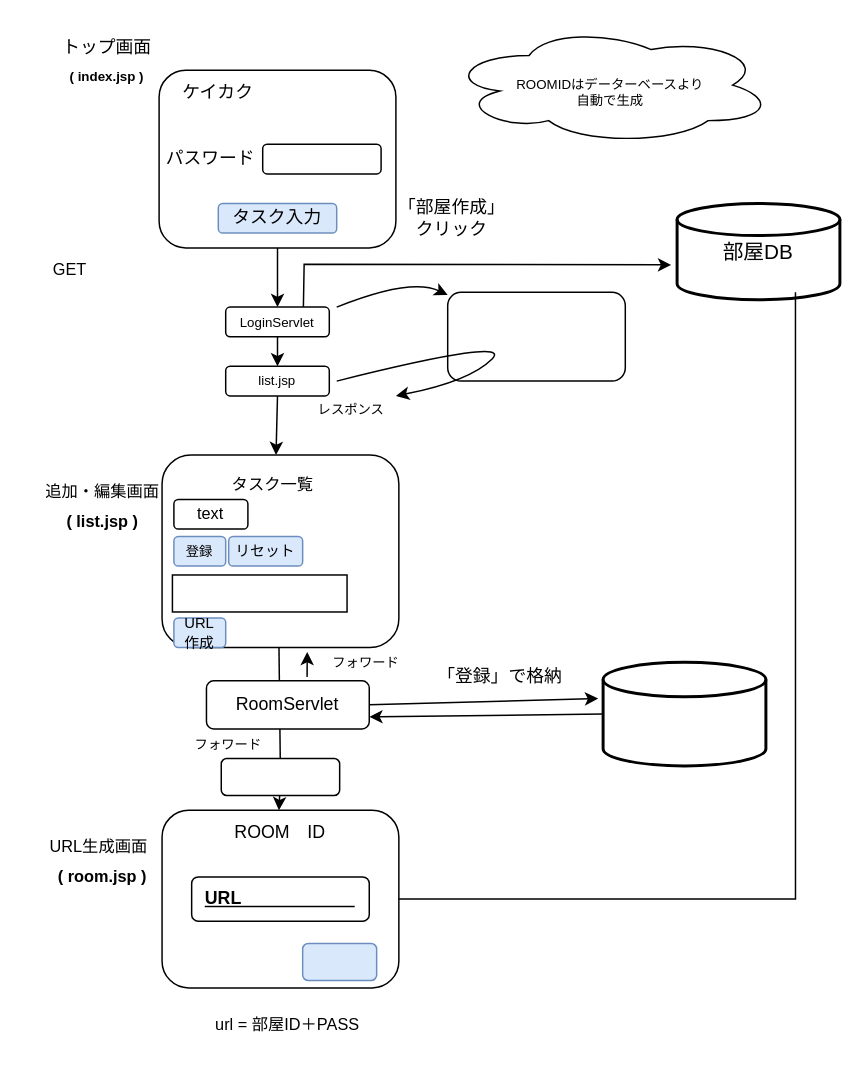
Image size: 866x1073. Some labels were removed from this diagram. Here are the shapes that lost their labels. From the top down, the centre of each, then its label:
At point (535, 336): "セッションスコープ".
At point (259, 593): "格納されたタスク表示".
At point (684, 713): "タスクDB".
At point (280, 776): "room.jsp".
At point (339, 961): "ユーザー選択".
